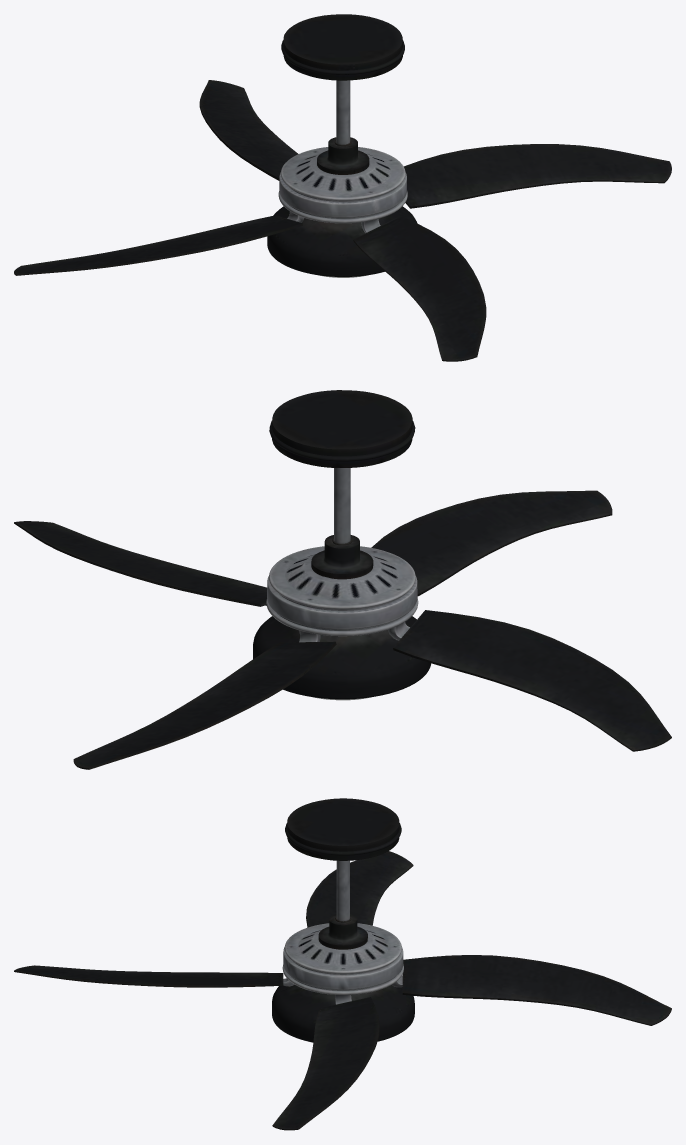
The model's file is ceiling_fan.glb.
3 views of the same model, one above another, from view 1: azimuth 30°, elevation 25°; view 2: azimuth 150°, elevation 25°; view 3: azimuth 270°, elevation 25° (orthographic). The views are drawn at different scales.
Parts seen in each view (by area): view 1: ceiling_fan_blades, ceiling_fan; view 2: ceiling_fan_blades, ceiling_fan; view 3: ceiling_fan_blades, ceiling_fan.
Part boxes in pixels (x1=…): ceiling_fan_blades: x1=14, y1=80, x2=671, y2=361; ceiling_fan: x1=267, y1=14, x2=417, y2=277; ceiling_fan_blades: x1=14, y1=490, x2=671, y2=769; ceiling_fan: x1=253, y1=390, x2=431, y2=700; ceiling_fan_blades: x1=14, y1=851, x2=671, y2=1130; ceiling_fan: x1=272, y1=798, x2=414, y2=1042.
Size of the model in its own units: 1.46 by 0.5163 by 1.46.
1 material, 1 textured.
